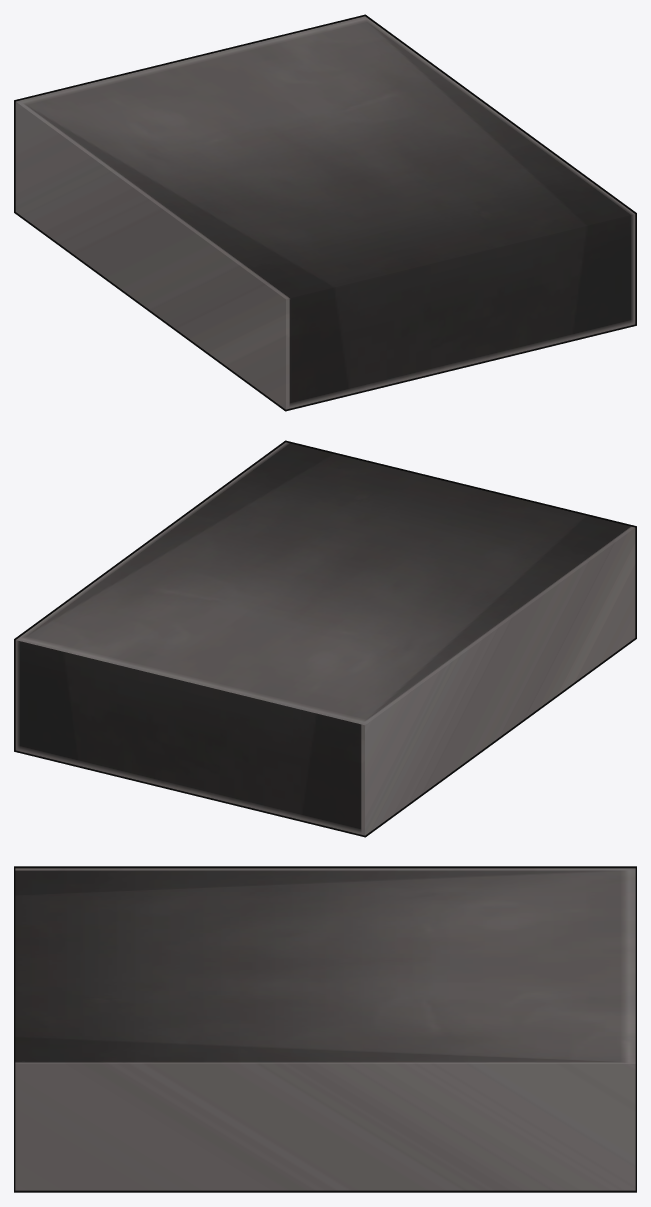
Rendered from Building_EndlessPit3x3c_Things_Building_EndlessPit_EndlessPit_Large.glb.
3 renders of one model, top to bottom at view 1: azimuth 30°, elevation 25°; view 2: azimuth 150°, elevation 25°; view 3: azimuth 270°, elevation 25°, orthographic. The views are drawn at different scales.
Parts seen in each view (by area): view 1: Body, Outline; view 2: Body, Outline; view 3: Body, Outline.
Part boxes in pixels (left/top/right/bottom): Body: left=15, top=16, right=635, bottom=409; Outline: left=14, top=14, right=636, bottom=411; Body: left=15, top=442, right=635, bottom=835; Outline: left=14, top=440, right=636, bottom=837; Body: left=15, top=868, right=635, bottom=1190; Outline: left=14, top=866, right=636, bottom=1192.
Bounding box in the file's own units: 1.49 × 0.4569 × 2.
Materials: 2 (1 with a texture image).
